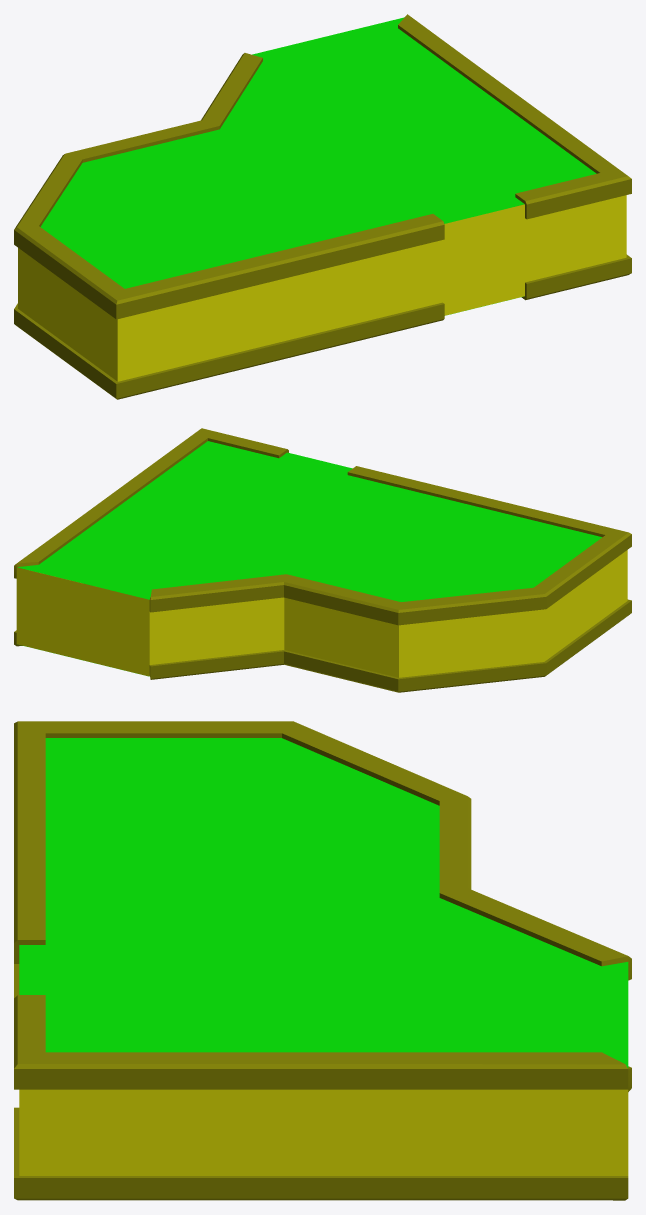
3 renders of one model, top to bottom at view 1: azimuth 30°, elevation 25°; view 2: azimuth 150°, elevation 25°; view 3: azimuth 270°, elevation 25°, orthographic. The views are drawn at different scales.
Visible parts, largest first — view 1: polySurface196, polySurface198, polySurface193; view 2: polySurface196, polySurface198, polySurface193; view 3: polySurface196, polySurface193, polySurface198.
Part boxes in pixels (x1,y1,x2,y2): polySurface196: (40, 17, 596, 314); polySurface198: (18, 195, 626, 381); polySurface193: (14, 14, 631, 399); polySurface196: (18, 441, 601, 676); polySurface198: (16, 550, 627, 677); polySurface193: (14, 428, 631, 692); polySurface196: (19, 738, 628, 1067); polySurface193: (14, 721, 631, 1200); polySurface198: (19, 1068, 628, 1175).
Bounding box in the file's own units: 50.65 × 9.3 × 38.26.
